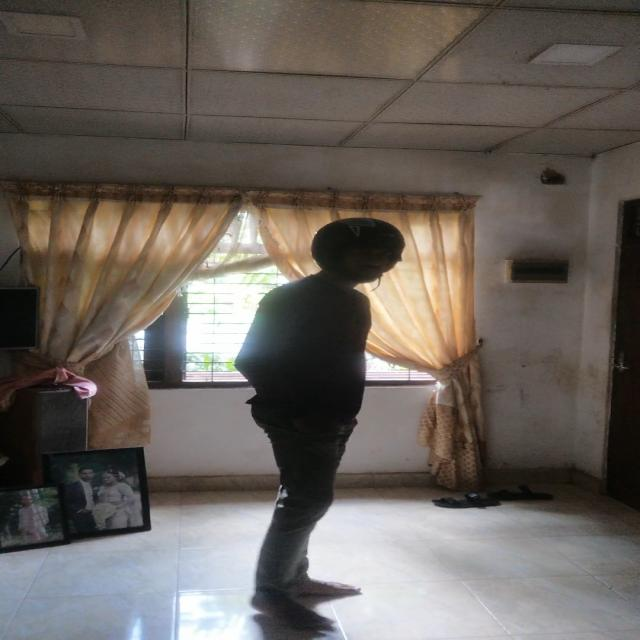Helmet_Wearer: (301, 211, 418, 287)
Person: (231, 215, 424, 633)
